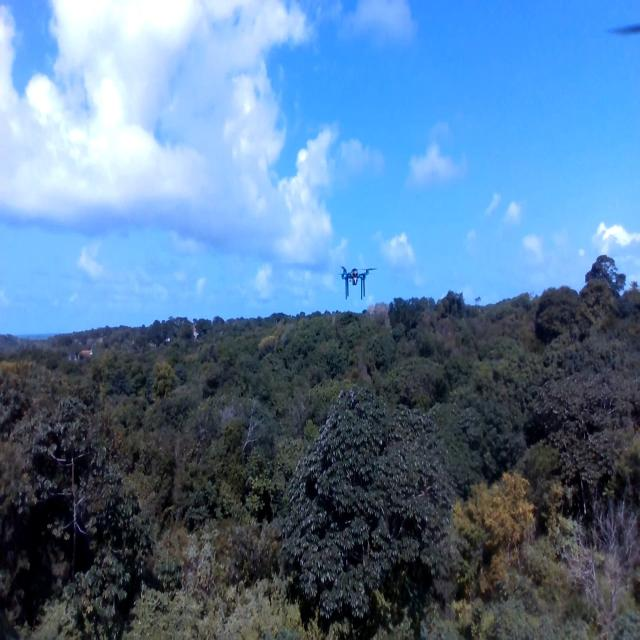-uav-: (336, 253, 376, 307)
